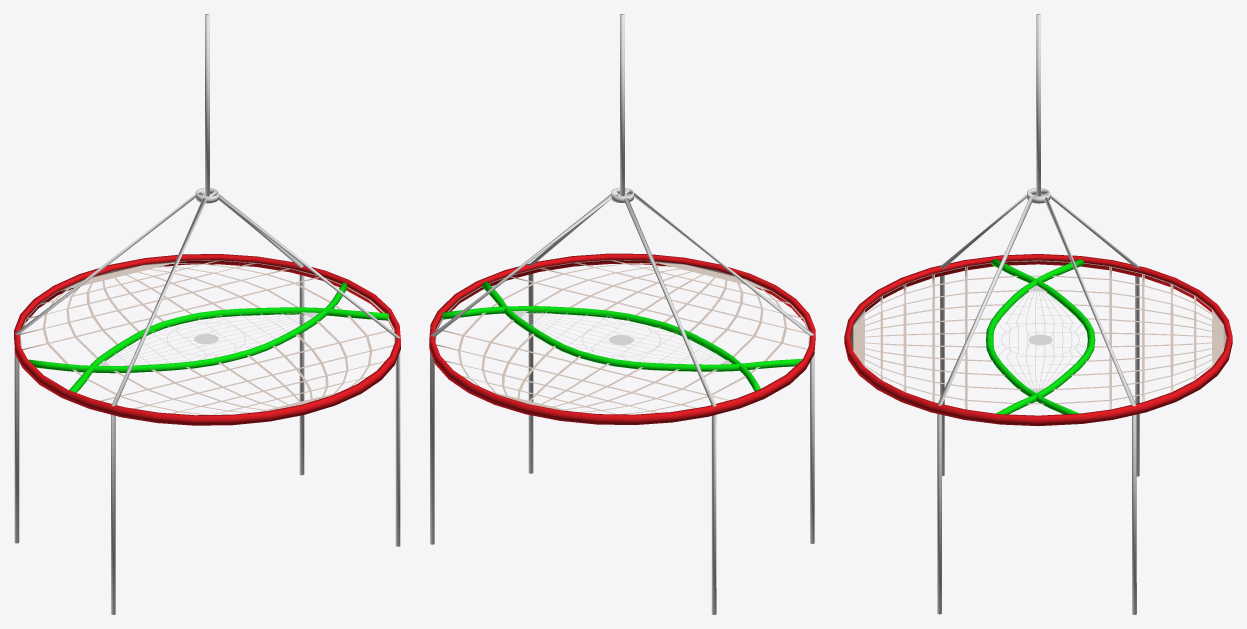
Rendered from Dreamcatcher.fbx.
3 views of the same model, side by side, from view 1: azimuth 30°, elevation 25°; view 2: azimuth 150°, elevation 25°; view 3: azimuth 270°, elevation 25° (orthographic).
Visible parts, largest first — view 1: Dreamcatcher, Rope.004, Dreamcatcher.001, Rope; view 2: Dreamcatcher, Rope.004, Dreamcatcher.001, Rope; view 3: Dreamcatcher, Rope.004, Dreamcatcher.001, Rope.
Boxes of the visible parts, x1,y1,x2,y2 form: Dreamcatcher: [14, 254, 400, 425]; Rope.004: [14, 193, 400, 614]; Dreamcatcher.001: [28, 282, 388, 392]; Rope: [205, 14, 209, 196]; Dreamcatcher: [429, 253, 815, 424]; Rope.004: [430, 192, 814, 614]; Dreamcatcher.001: [442, 281, 802, 390]; Rope: [620, 14, 624, 195]; Dreamcatcher: [844, 254, 1232, 426]; Rope.004: [937, 193, 1139, 614]; Dreamcatcher.001: [986, 259, 1095, 414]; Rope: [1036, 14, 1040, 196].
Bounding box in the file's own units: 622 × 937 × 622.
